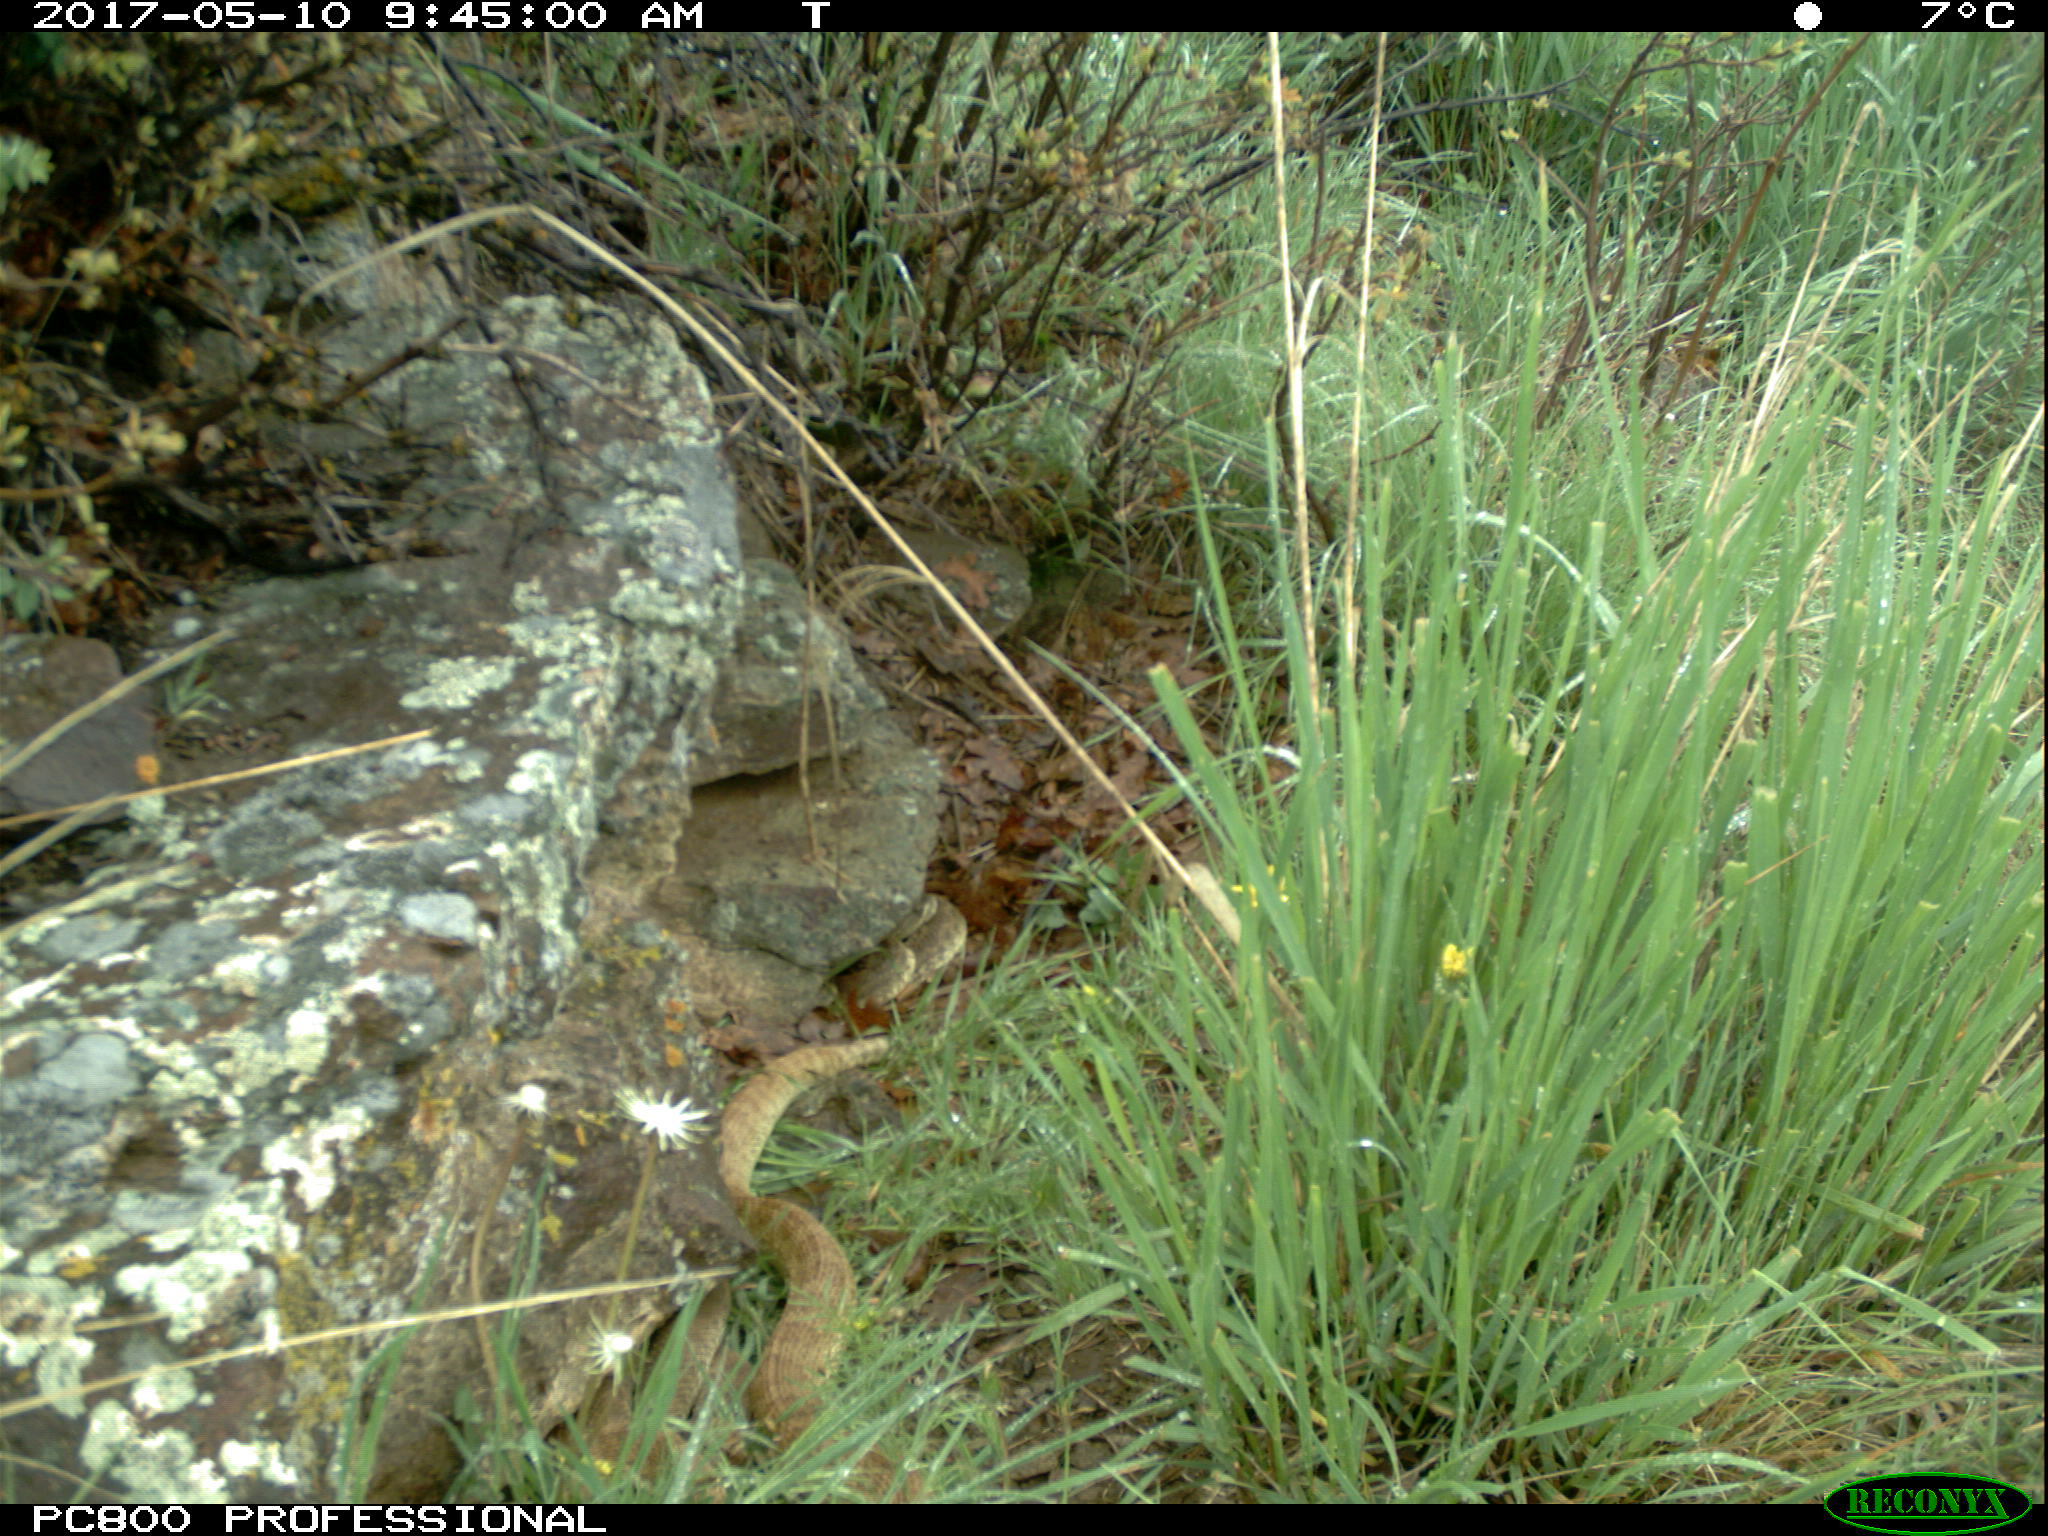snake: (714, 1033, 932, 1494), (590, 1302, 727, 1502), (845, 904, 971, 999)
